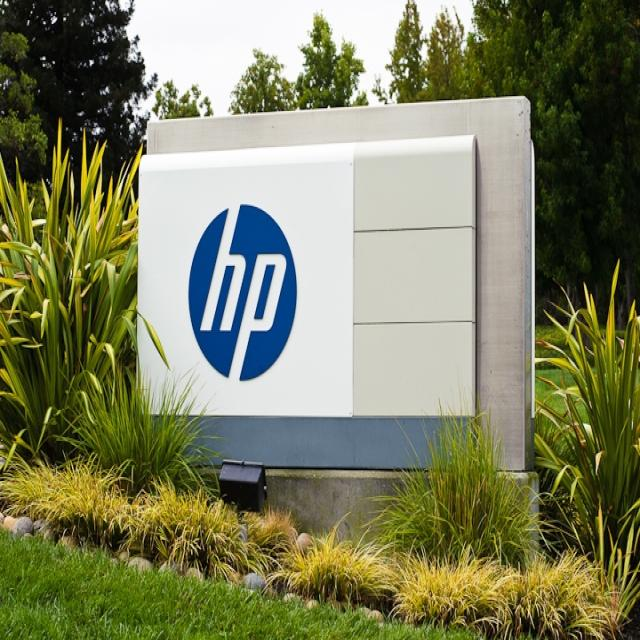HP: (186, 203, 301, 388)
